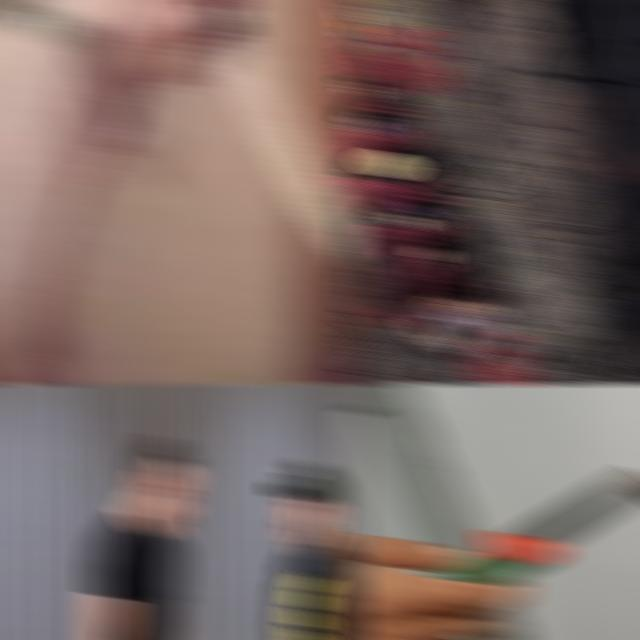Knife: (430, 470, 640, 585)
Knife_Handle: (72, 0, 361, 290)
